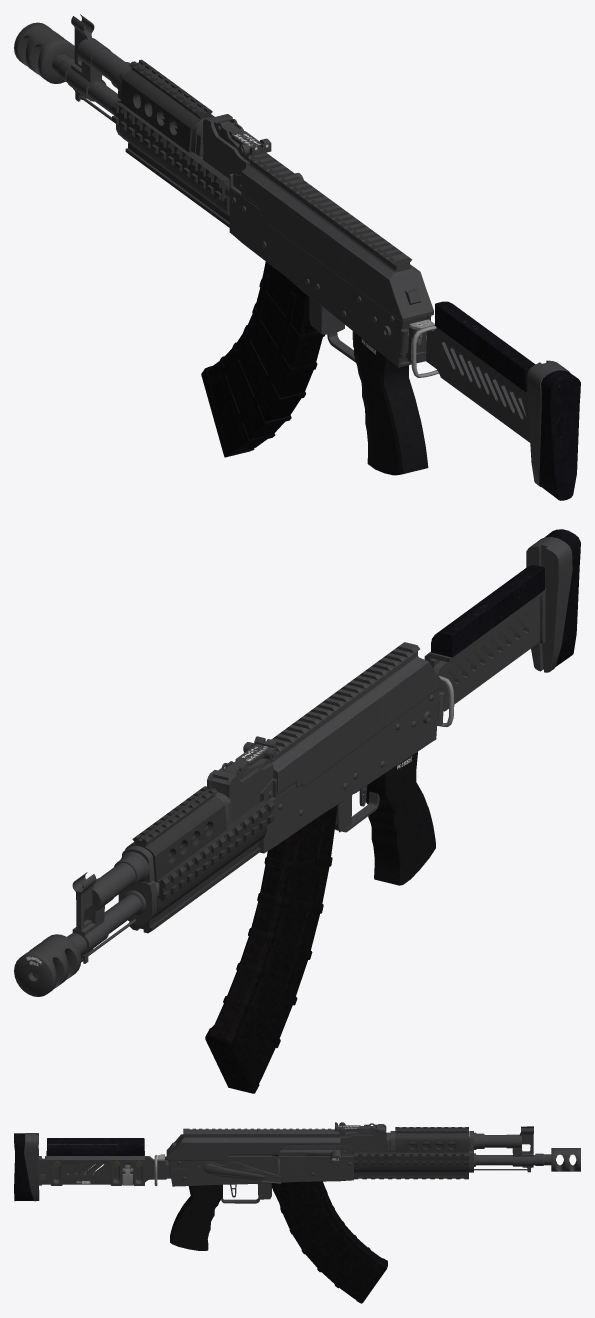
3 renders of one model, top to bottom at view 1: azimuth 30°, elevation 25°; view 2: azimuth 150°, elevation 25°; view 3: azimuth 270°, elevation 25°, orthographic. The views are drawn at different scales.
Parts seen in each view (by area): view 1: MAGAZINE, DUST_COVER, Cube.006, HAND_GUARD, RECEIVER, PISTOL GRIP, Cube.005, BARREL, IRON_SIGHT, Circle.005; view 2: MAGAZINE, DUST_COVER, Cube.006, HAND_GUARD, RECEIVER, PISTOL GRIP, BARREL, Cube.005, IRON_SIGHT, Circle.005; view 3: MAGAZINE, Cube.006, HAND_GUARD, RECEIVER, DUST_COVER, BARREL, PISTOL GRIP, IRON_SIGHT, LEVER, BOLT_CARRIER, Circle.005, Cube.005.
Part boxes in pixels (left/top/right/bottom): MAGAZINE: left=201, top=261, right=324, bottom=457; DUST_COVER: left=241, top=152, right=433, bottom=322; Cube.006: left=435, top=301, right=580, bottom=500; HAND_GUARD: left=112, top=59, right=229, bottom=227; RECEIVER: left=229, top=173, right=431, bottom=367; PISTOL GRIP: left=354, top=332, right=428, bottom=475; Cube.005: left=398, top=319, right=530, bottom=442; BARREL: left=66, top=14, right=243, bottom=197; IRON_SIGHT: left=203, top=114, right=271, bottom=178; Circle.005: left=14, top=22, right=74, bottom=83; MAGAZINE: left=205, top=805, right=337, bottom=1093; DUST_COVER: left=262, top=642, right=442, bottom=794; Cube.006: left=424, top=529, right=580, bottom=680; HAND_GUARD: left=125, top=786, right=274, bottom=933; RECEIVER: left=258, top=688, right=444, bottom=853; PISTOL GRIP: left=363, top=752, right=435, bottom=885; BARREL: left=72, top=750, right=276, bottom=963; Cube.005: left=433, top=597, right=539, bottom=727; IRON_SIGHT: left=207, top=736, right=276, bottom=824; Circle.005: left=14, top=933, right=86, bottom=996; MAGAZINE: left=271, top=1155, right=387, bottom=1303; Cube.006: left=14, top=1133, right=144, bottom=1201; HAND_GUARD: left=354, top=1127, right=468, bottom=1179; RECEIVER: left=165, top=1145, right=353, bottom=1203; DUST_COVER: left=166, top=1128, right=340, bottom=1160; BARREL: left=386, top=1126, right=535, bottom=1172; PISTOL GRIP: left=170, top=1185, right=222, bottom=1250; IRON_SIGHT: left=335, top=1122, right=386, bottom=1152; LEVER: left=202, top=1161, right=281, bottom=1183; BOLT_CARRIER: left=278, top=1144, right=341, bottom=1164; Circle.005: left=535, top=1148, right=580, bottom=1171; Cube.005: left=45, top=1154, right=170, bottom=1185.
Bounding box in the file's own units: 61.89 × 301 × 880.
Materials: 2 (2 with a texture image).
